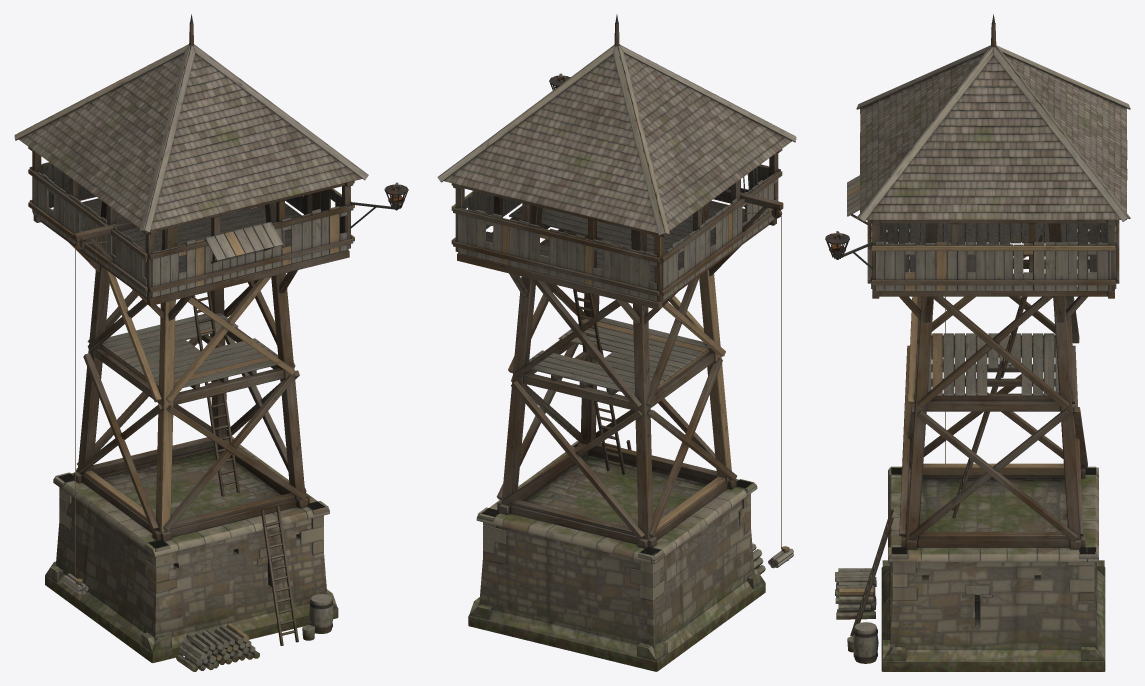
File: watchtower.glb
3 renders of one model, left to right at view 1: azimuth 30°, elevation 25°; view 2: azimuth 150°, elevation 25°; view 3: azimuth 270°, elevation 25°, orthographic. The views are drawn at different scales.
Parts seen in each view (by area): view 1: watchtower_LOD0; view 2: watchtower_LOD0; view 3: watchtower_LOD0.
Part boxes in pixels (<box>): watchtower_LOD0: <box>14,14,408,671</box>; watchtower_LOD0: <box>437,14,796,671</box>; watchtower_LOD0: <box>825,14,1130,671</box>.
Size of what is drawn, in the model's own units: 8.55 by 16.88 by 7.65.
Materials: 1 (1 with a texture image).
